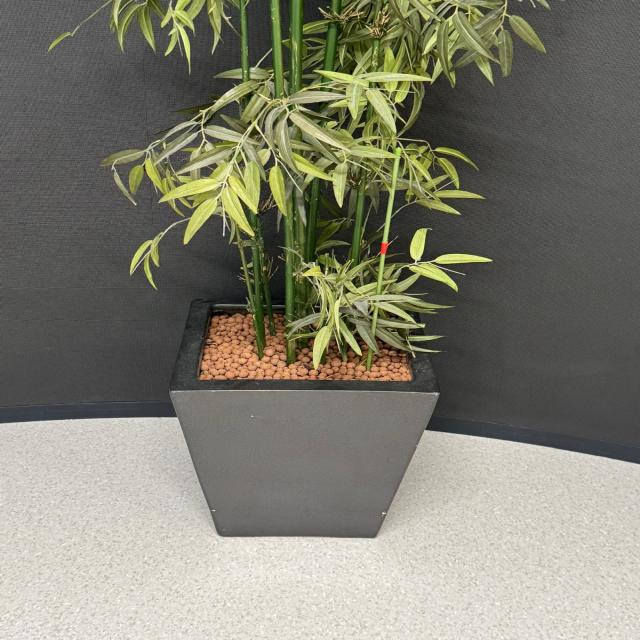Pot: (168, 295, 442, 537)
